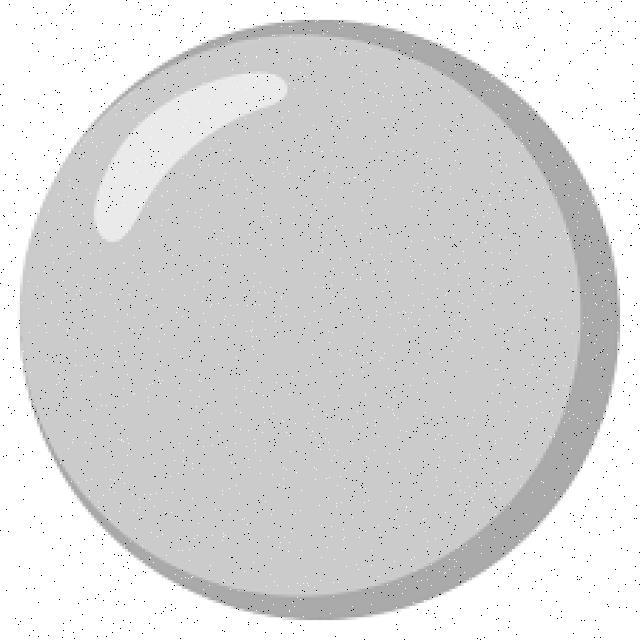Circle: (14, 20, 623, 626)
